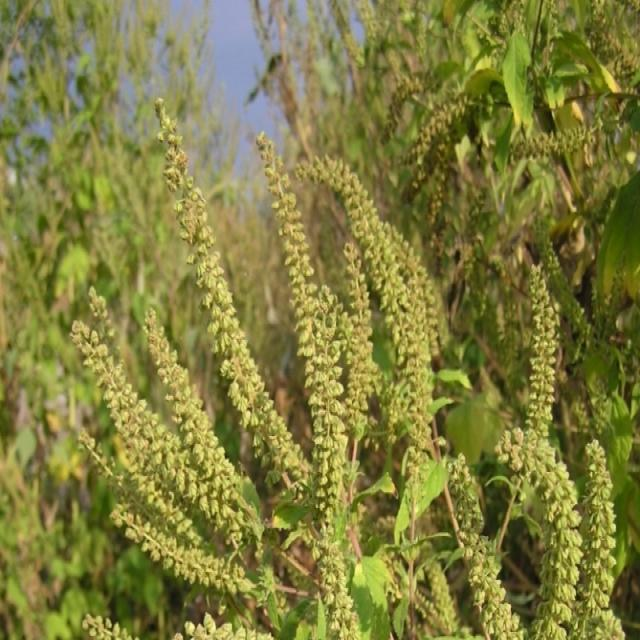ambrosia: (139, 92, 324, 516), (332, 154, 472, 507), (498, 263, 624, 640)
